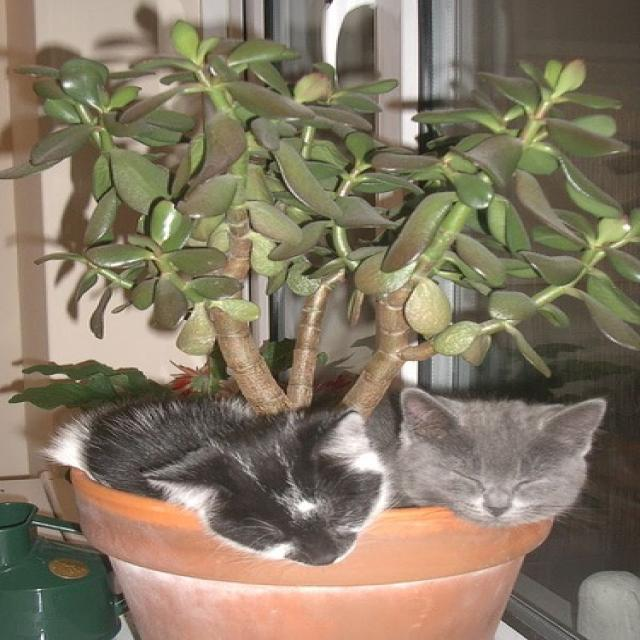cat: (41, 392, 399, 572), (362, 382, 614, 532)
pottedplant: (0, 11, 638, 638)
